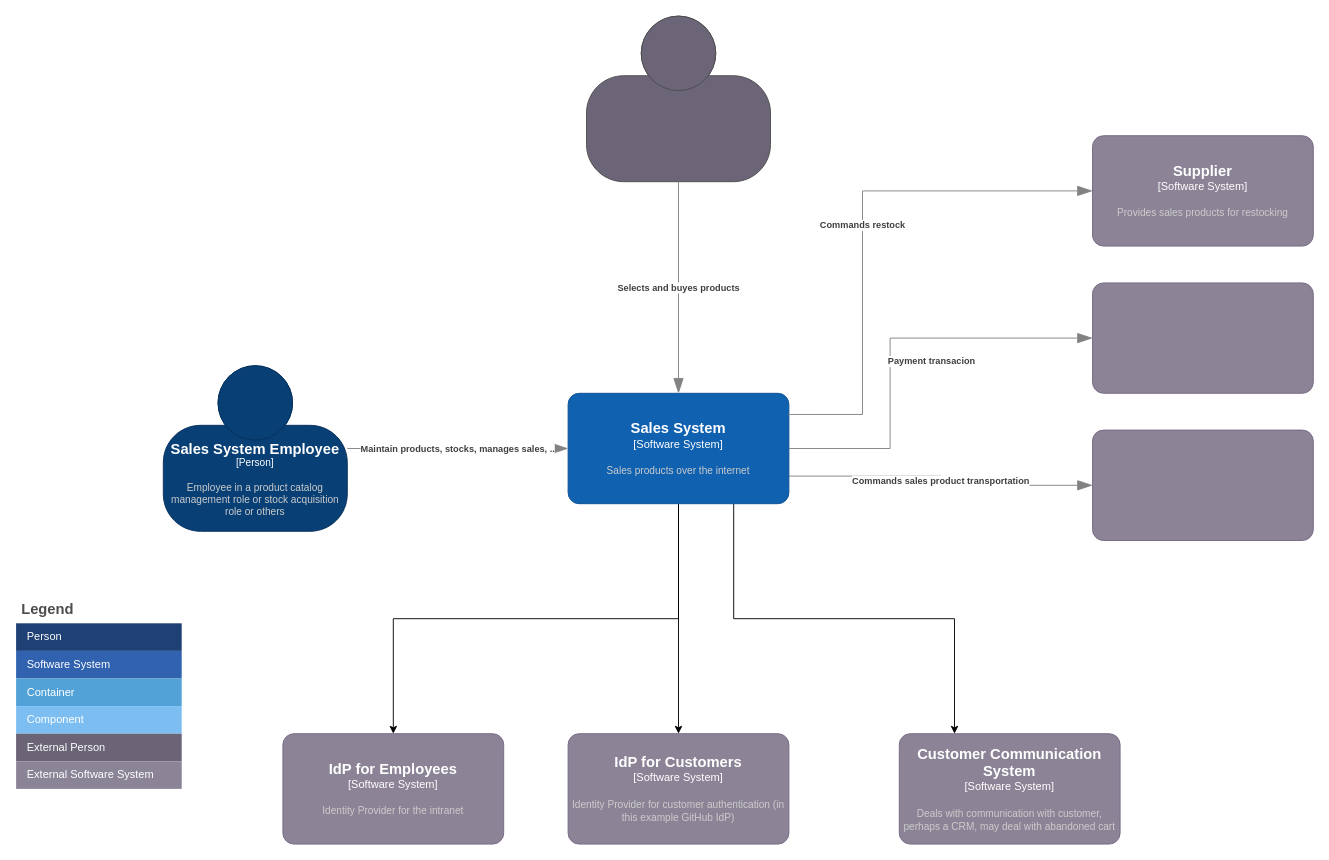
This 1329x860 diagram has some shape labels left out. Each missing label, with the centre of its shape:
"Customer [Person] Customer navigating in a browser" goes at pixel 678 98.
"Financial Institution [Software System] Process payment transaction" goes at pixel 1202 337.
"Logistic company system [Software System] Delivers the packages" goes at pixel 1202 484.
